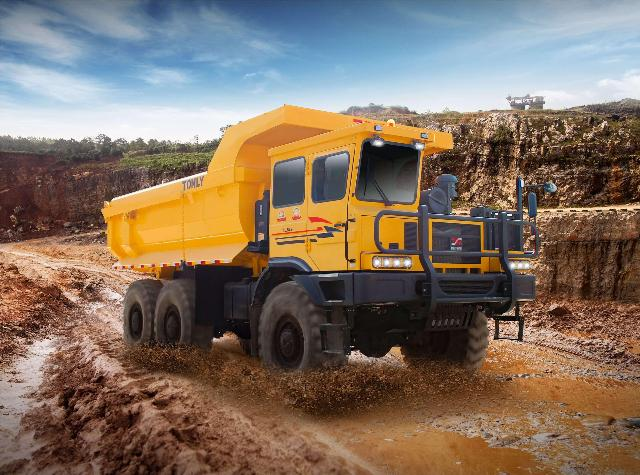truck: (54, 102, 572, 397)
